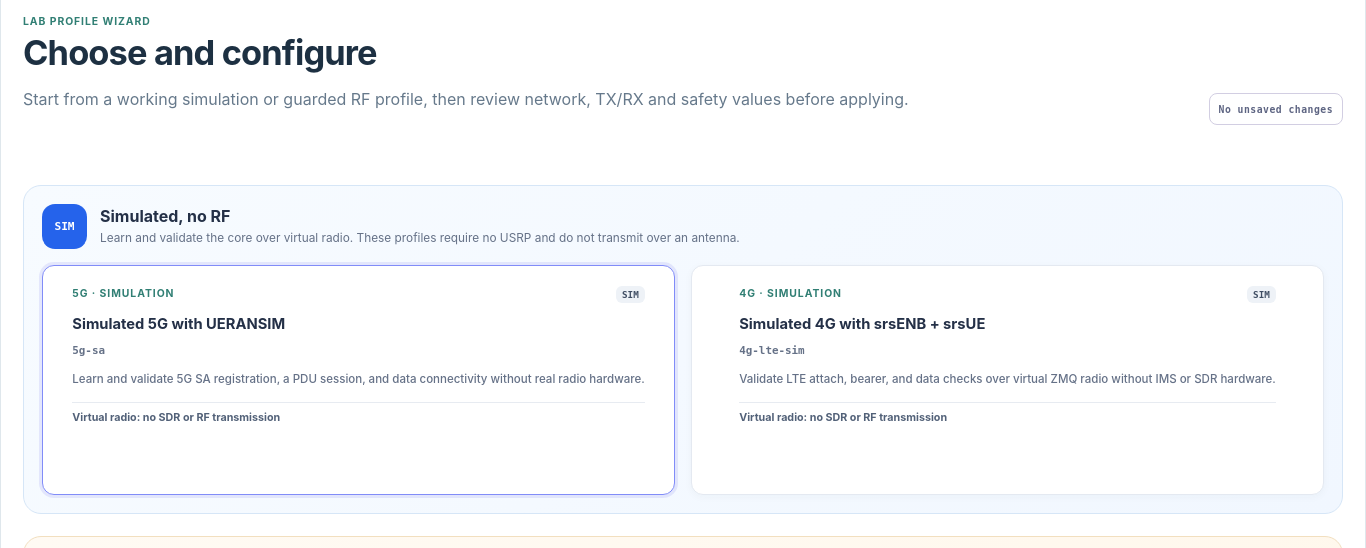
Scenario: Deployment configuration › offers ready DNN presets and selects a subscriber from the live subscriber API
Click the text "5g-sa" at (89, 351), box [72, 346, 105, 357]
(page scrolled)
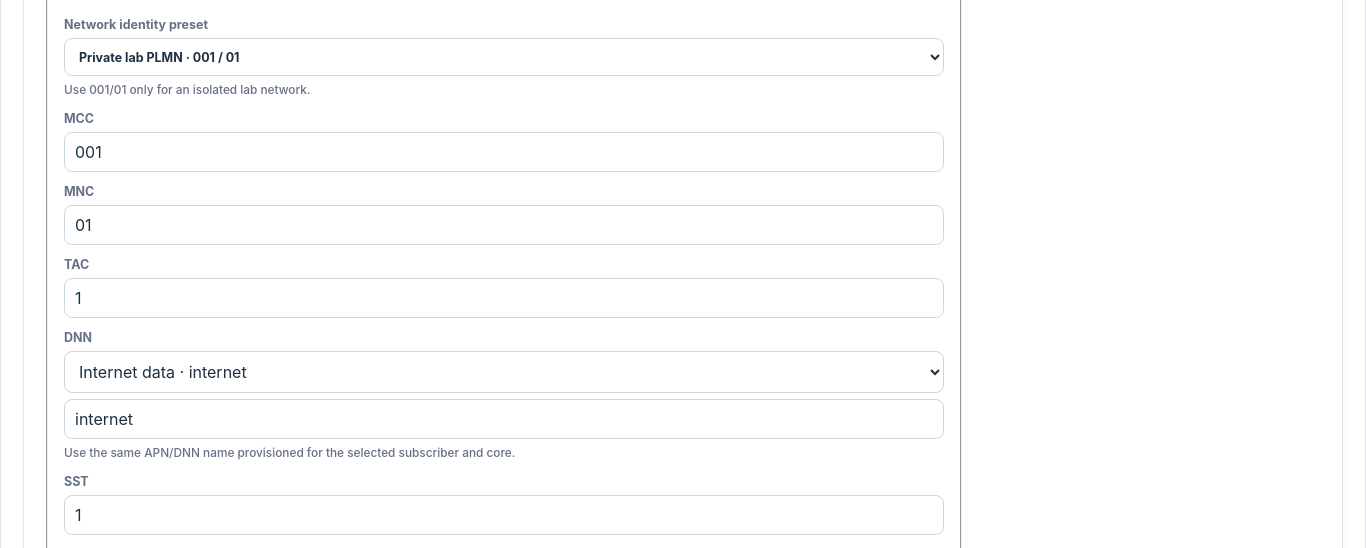
Select "Custom value" in the dropdown named "DNN preset" at (504, 372), box [64, 351, 944, 393]
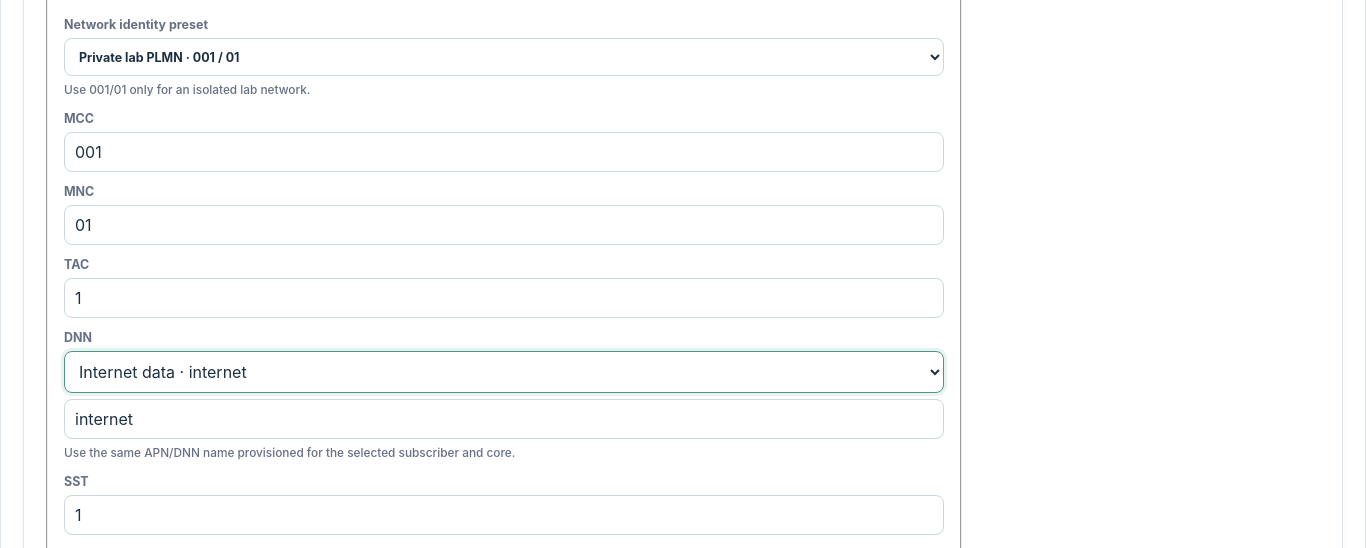
Replace the text in the field labelled "DNN" with "labnet" at (504, 419), box [64, 399, 944, 439]
(page scrolled)
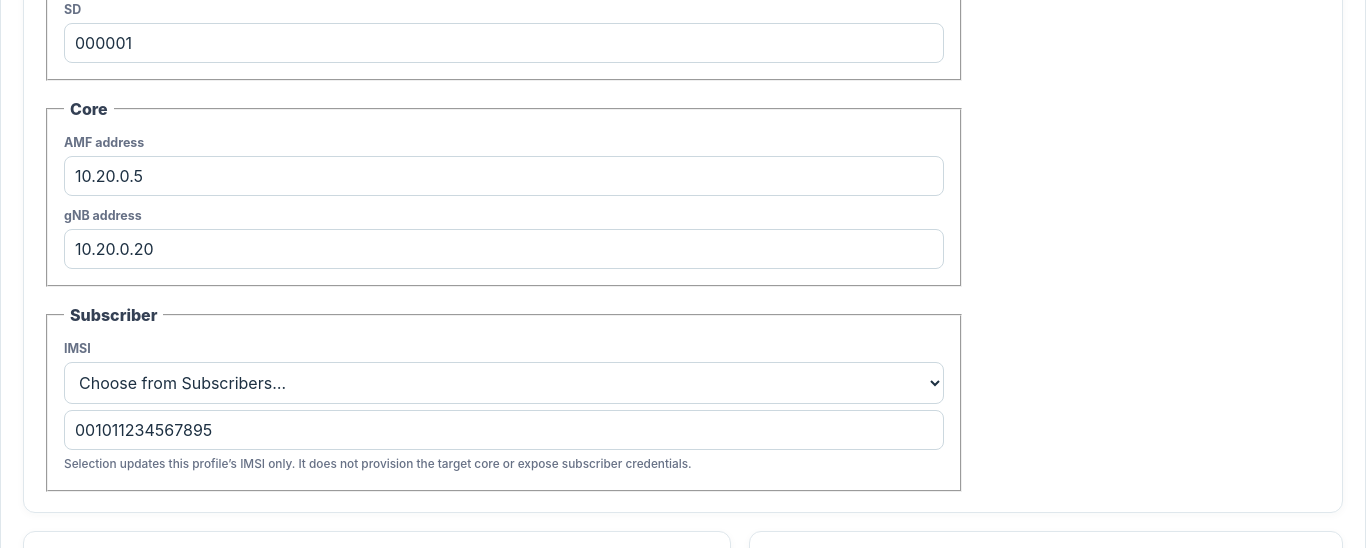
Select "001010123456789 · 51987654321" in the dropdown named "Select existing subscriber" at (504, 383), box [64, 362, 944, 404]
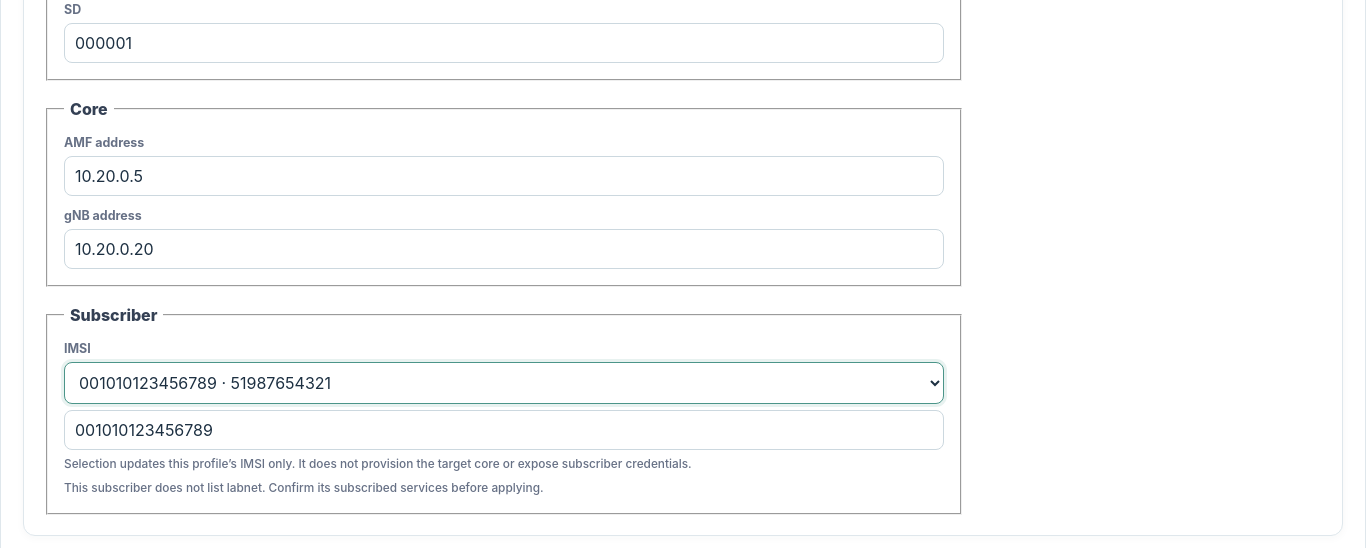
Expected: the field labelled "IMSI" holds "001010123456789", [64, 410, 944, 450]
